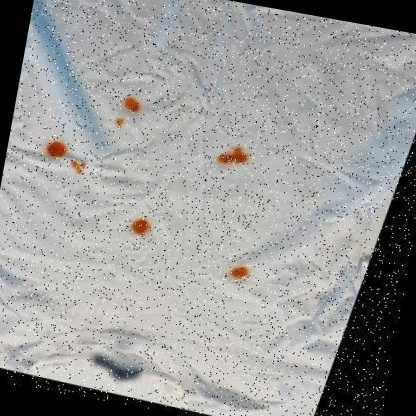kimchi: (216, 139, 254, 177), (46, 133, 72, 166), (128, 211, 156, 241), (120, 93, 145, 119), (70, 154, 91, 176), (232, 265, 251, 283), (113, 118, 126, 130)
